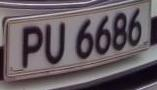6: (74, 15, 96, 65), (94, 13, 113, 59), (127, 8, 144, 52)
8: (111, 11, 129, 56)
P: (18, 19, 46, 73)
U: (43, 20, 68, 67)
